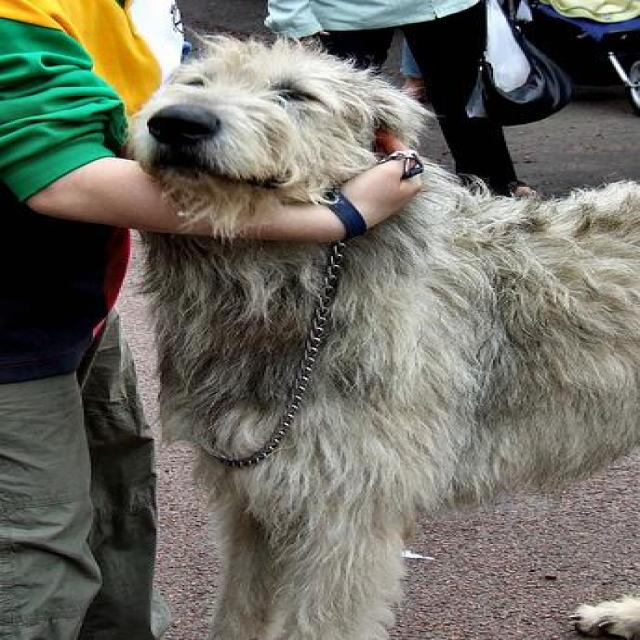irish_wolfhound: (103, 27, 636, 635)
